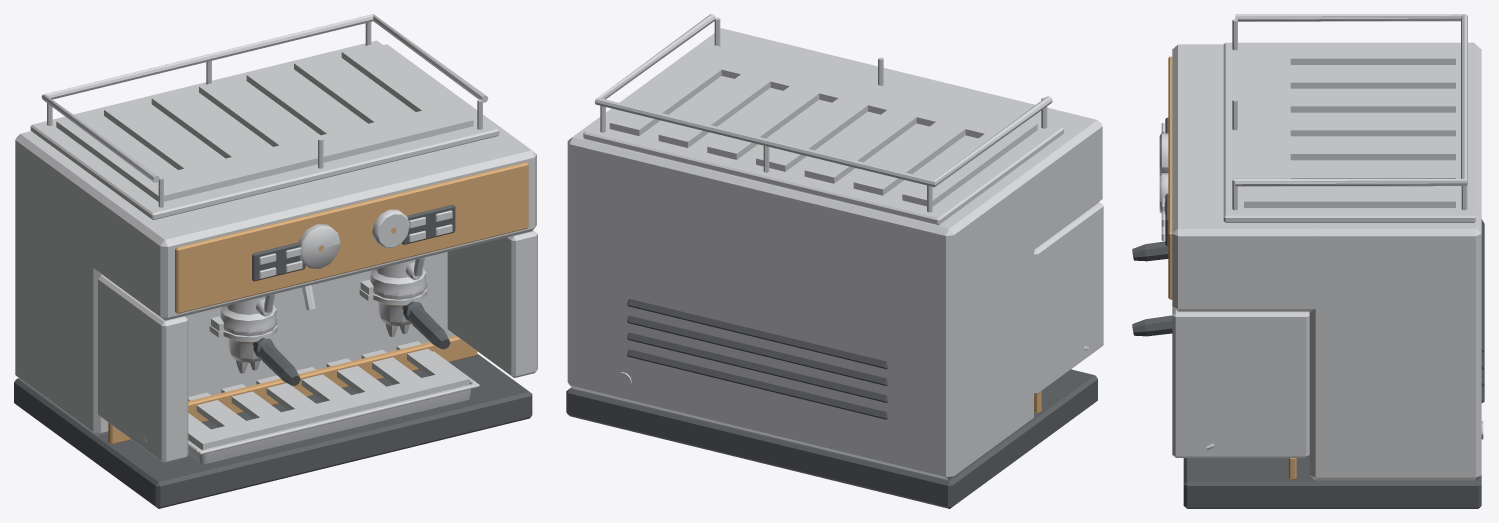
File: coffee-machine.glb
3 renders of one model, left to right at view 1: azimuth 30°, elevation 25°; view 2: azimuth 150°, elevation 25°; view 3: azimuth 270°, elevation 25°, orthographic. The views are drawn at different scales.
Parts seen in each view (by area): view 1: espresso-machine-2-group; view 2: espresso-machine-2-group; view 3: espresso-machine-2-group.
Boxes of the visible parts, x1,y1,x2,y2 form: espresso-machine-2-group: [14, 14, 537, 508]; espresso-machine-2-group: [566, 14, 1103, 508]; espresso-machine-2-group: [1132, 14, 1484, 508].
Size of the model in its own units: 0.782 by 0.637 by 0.6152.
